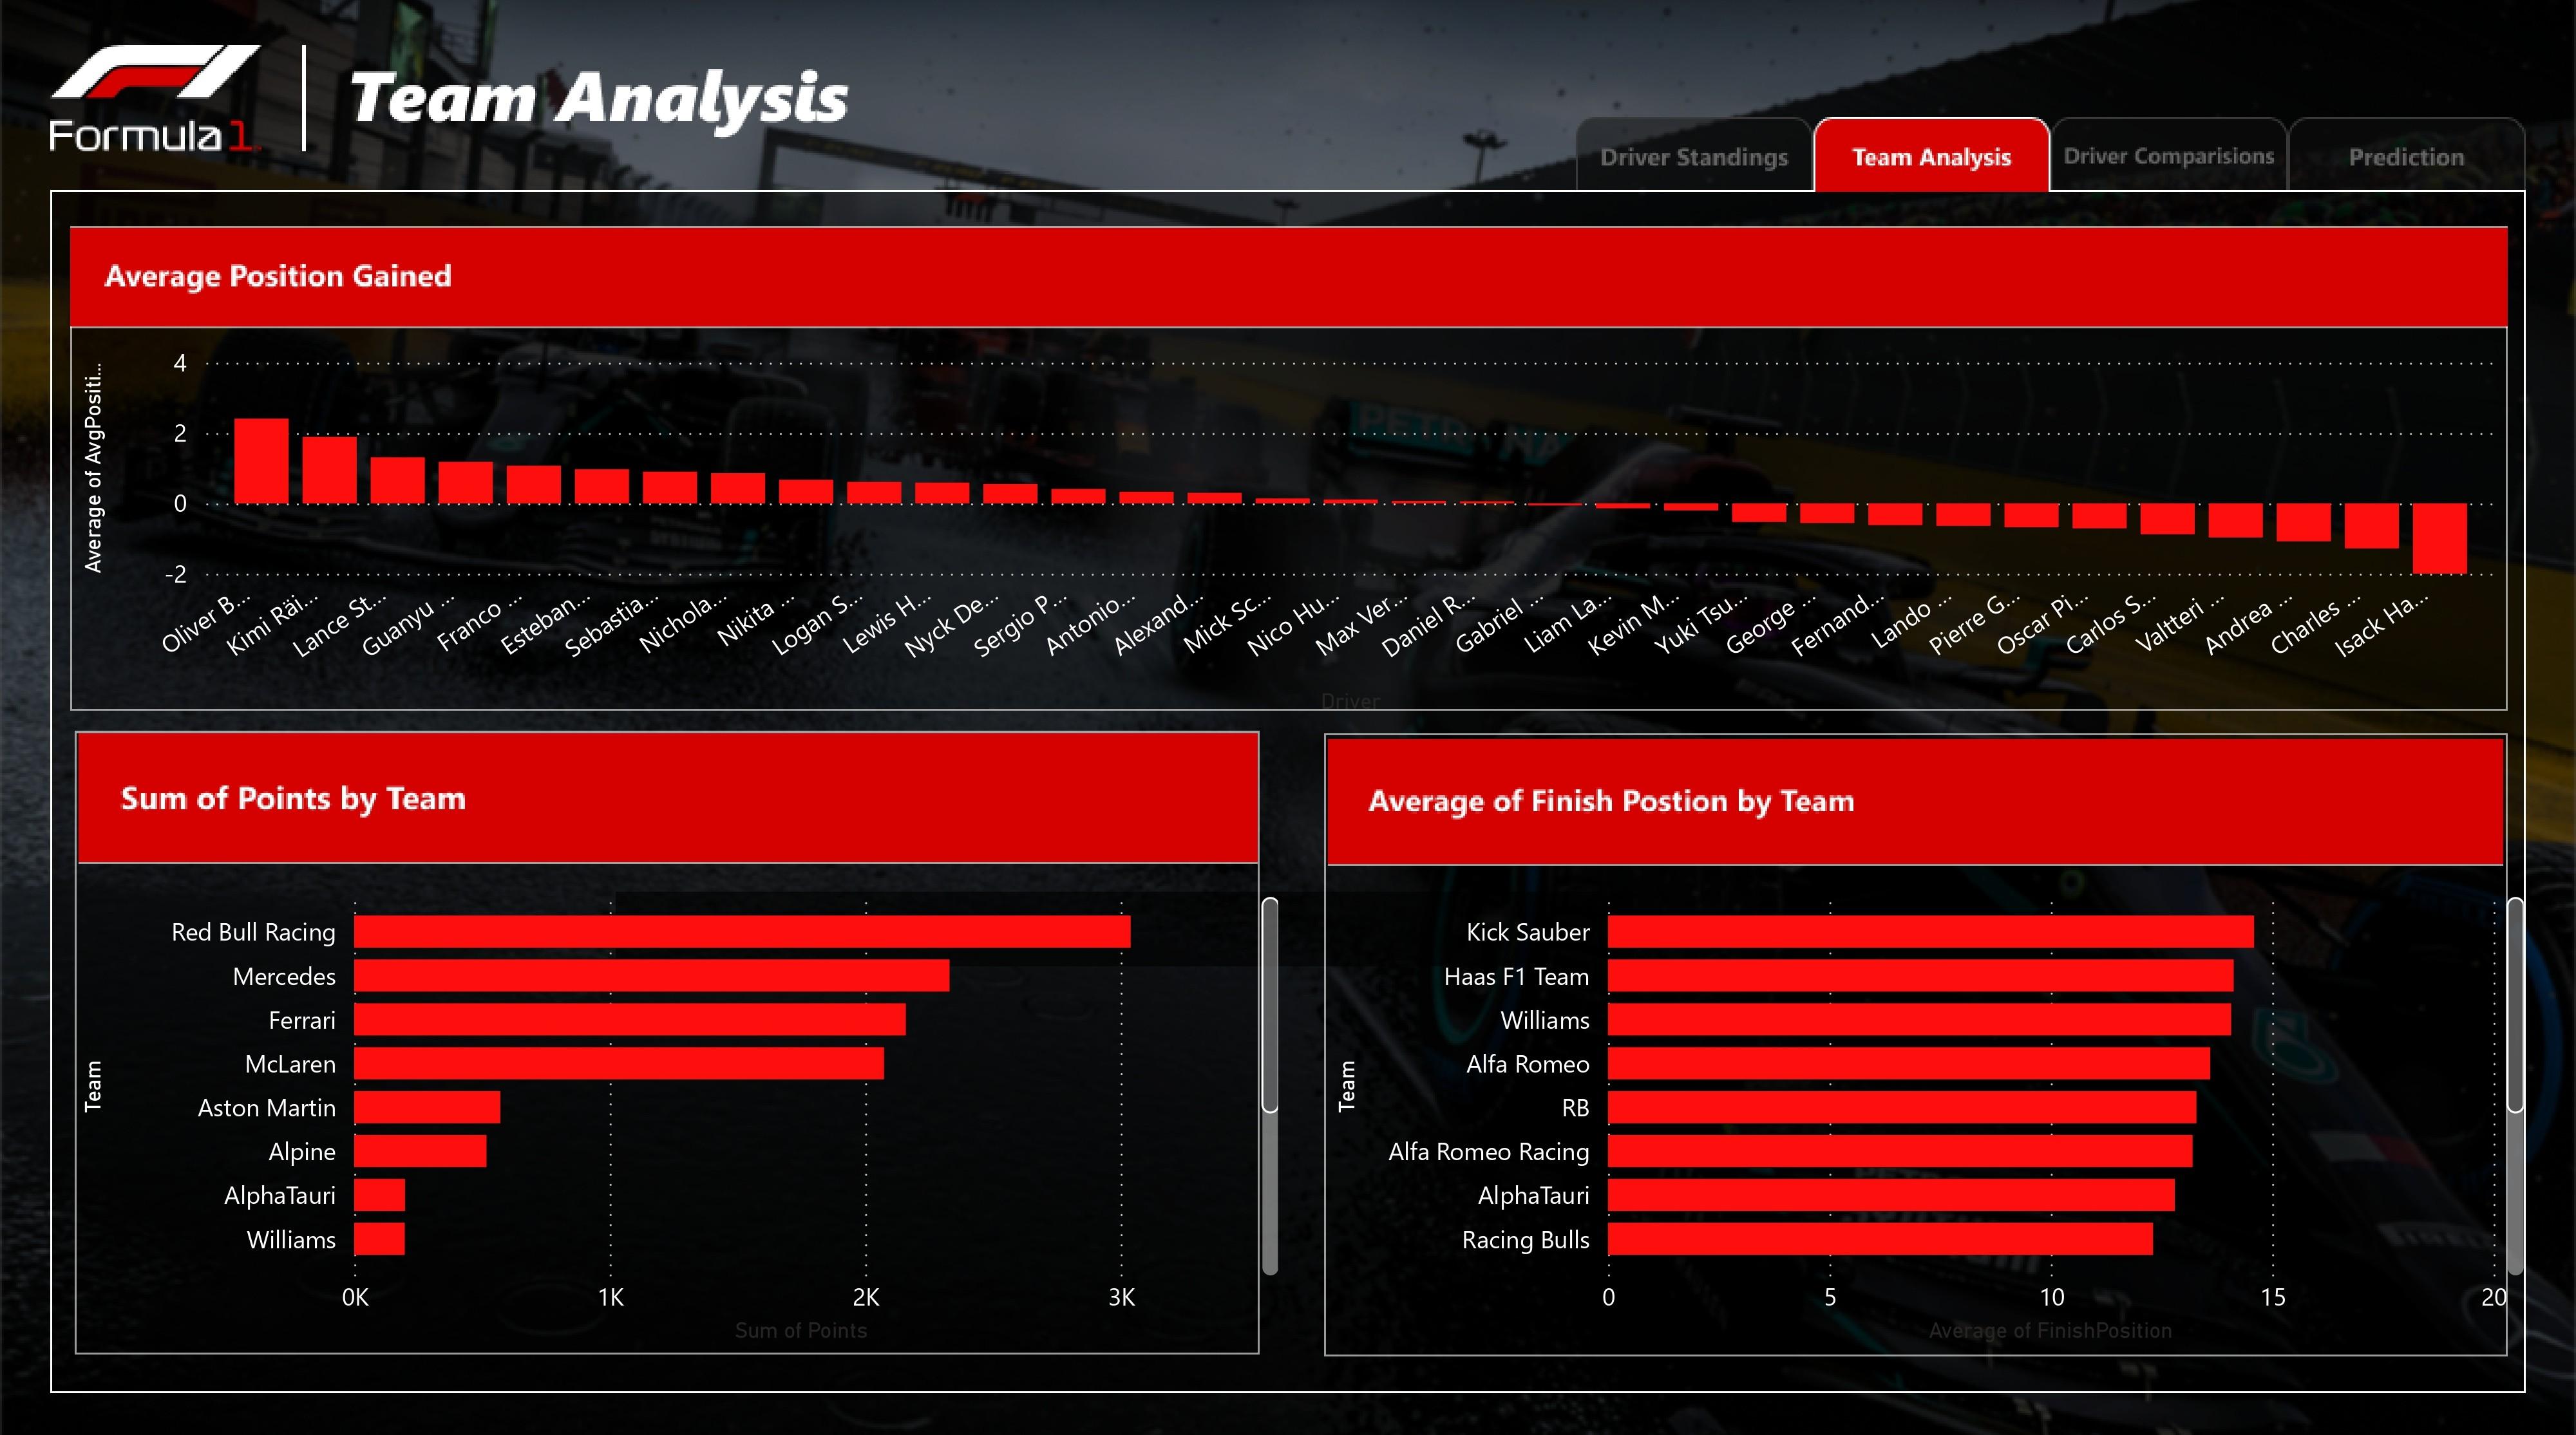

What the dashboard file says about the page in this screenshot:
{"tool":"powerbi","page":{"name":"Team Analysis","canvas":[1280,720],"ordinal":1},"visuals":[{"type":"clusteredBarChart","fields":{"Category":["historical_results.Team"],"Y":["Sum(historical_results.Points)"]},"box":[35.7,434.3,604.3,238.6],"z":0},{"type":"clusteredBarChart","fields":{"Category":["historical_results.Team"],"Y":["Avg(historical_results.FinishPosition)"]},"box":[658.6,434.3,600,238.6],"z":1000},{"type":"clusteredColumnChart","title":"Average Positions Gained","fields":{"Category":["driver_stats.Driver"],"Y":["Avg(driver_stats.AvgPositionsGained)"]},"box":[35.7,167.1,1208.6,192.9],"z":2000}]}

Visuals, with their boxes in screenshot pixels (x1, y1, x2, y2), scaled from the page's 1280x720 canvas onto the 2576x1435 screenshot:
clusteredBarChart - historical_results.Team x Sum(historical_results.Points): <box>72,866,1288,1341</box>
clusteredBarChart - historical_results.Team x Avg(historical_results.FinishPosition): <box>1325,866,2533,1341</box>
"Average Positions Gained" clusteredColumnChart: <box>72,333,2504,717</box>
